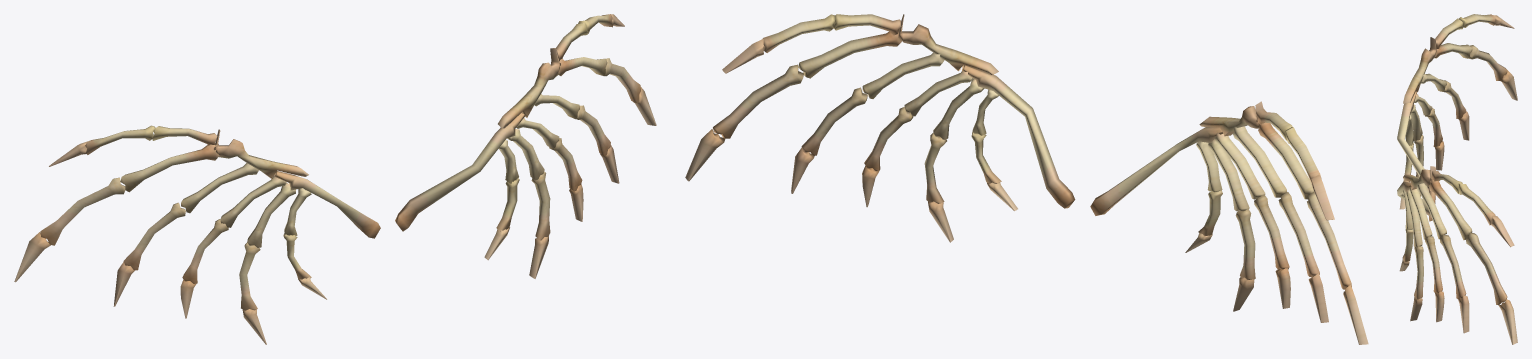
3 views of the same model, side by side, from view 1: azimuth 30°, elevation 25°; view 2: azimuth 150°, elevation 25°; view 3: azimuth 270°, elevation 25° (orthographic). The views are drawn at different scales.
Visible parts, largest first — view 1: Leak1; view 2: Leak1; view 3: Leak1.
Boxes of the visible parts, x1,y1,x2,y2 form: Leak1: (14, 14, 656, 344); Leak1: (685, 14, 1368, 344); Leak1: (1397, 14, 1517, 344).
Size of the model in its own units: 15.52 by 4.97 by 3.21.
Materials: 1 (1 with a texture image).
